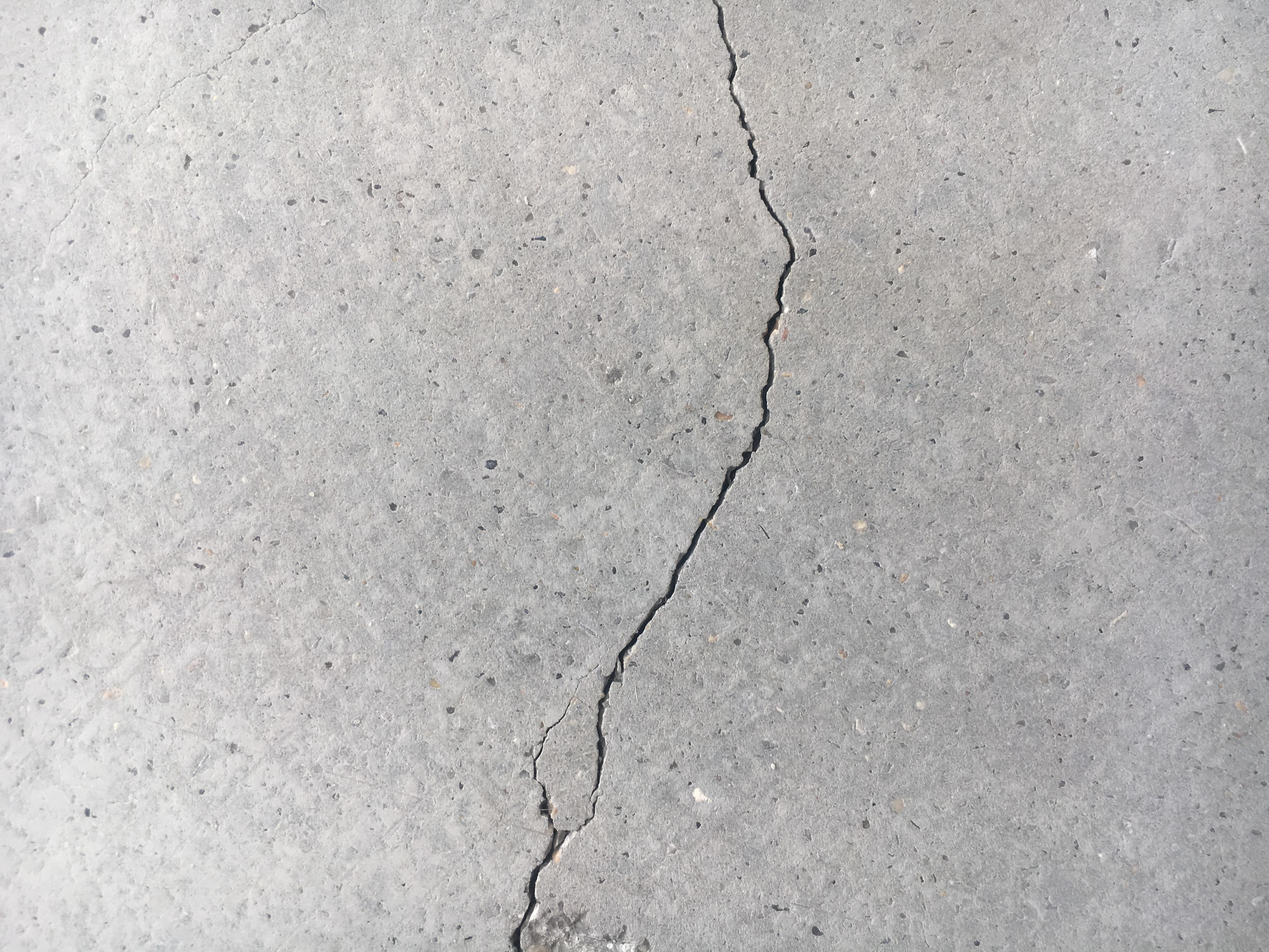Vertical Crack: (507, 1, 799, 947)
